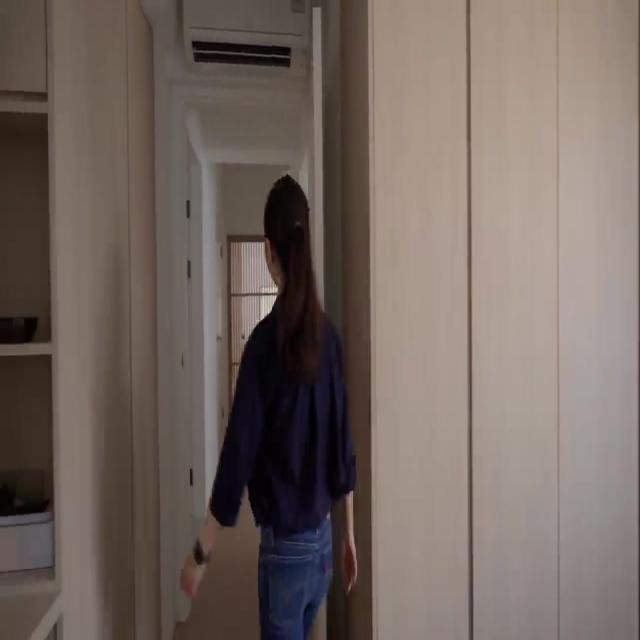person: (180, 173, 358, 639)
